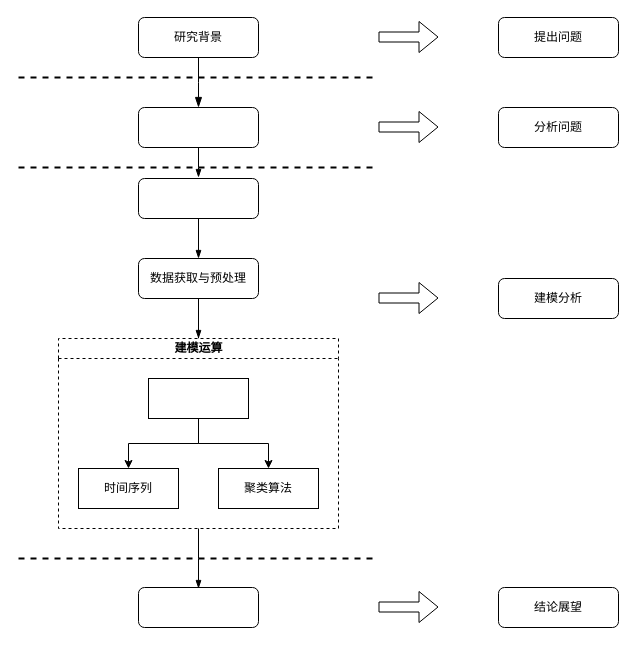
Image size: 636x645. Some labels were removed from this diagram. Here are the shapes that lost their labels. From the top down, the centre of each, then its label:
pixel 198 127: 信息可视化
pixel 198 198: 中国知网
pixel 198 398: 知识图谱构建
pixel 198 607: 研究结论输出
